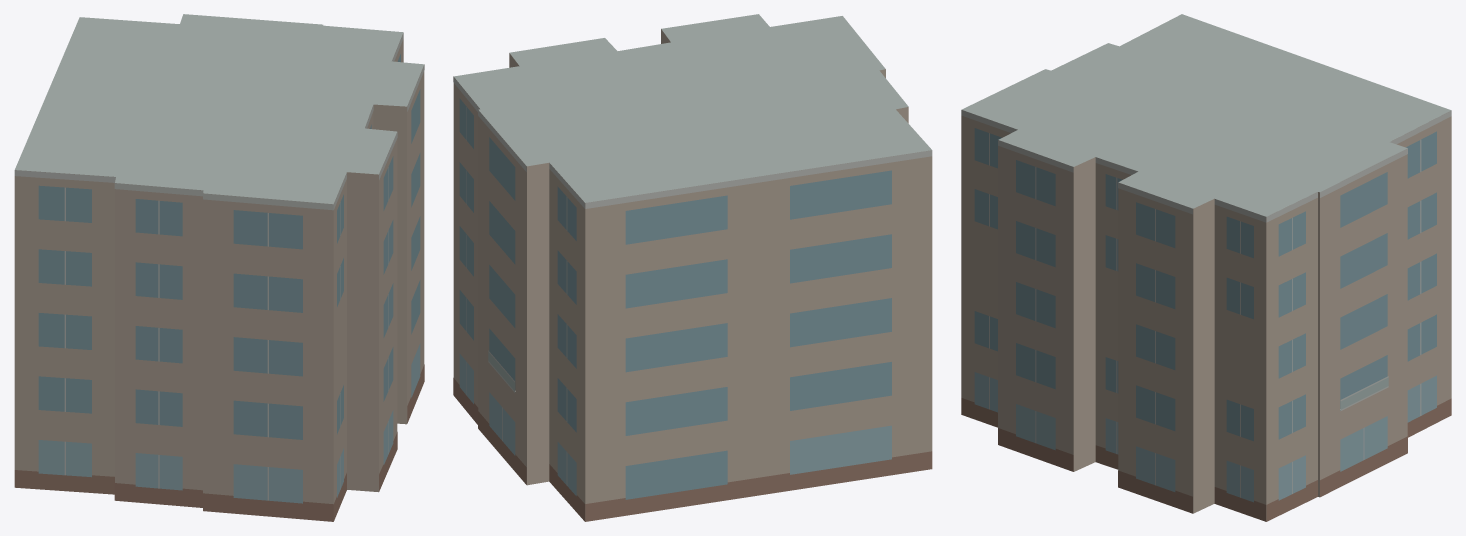
The model's file is survey-upis-32778314.glb.
3 views of the same model, side by side, from view 1: azimuth 30°, elevation 25°; view 2: azimuth 150°, elevation 25°; view 3: azimuth 270°, elevation 25° (orthographic). The views are drawn at different scales.
Parts seen in each view (by area): view 1: survey-upis-32778314.tmp; view 2: survey-upis-32778314.tmp; view 3: survey-upis-32778314.tmp.
Boxes of the visible parts, x1,y1,x2,y2 form: survey-upis-32778314.tmp: [14, 14, 424, 521]; survey-upis-32778314.tmp: [453, 14, 932, 521]; survey-upis-32778314.tmp: [961, 14, 1451, 521].
Size of the model in its own units: 18.19 by 12.75 by 18.58.
